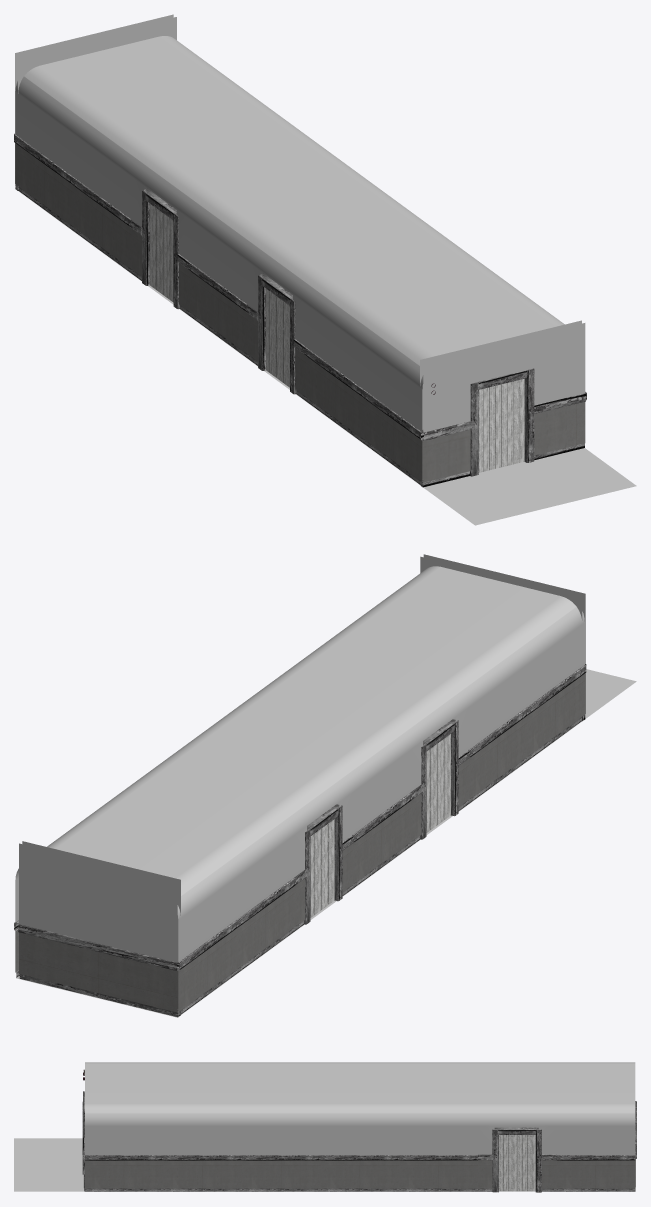
Rendered from Hallway_1.fbx.
3 views of the same model, one above another, from view 1: azimuth 30°, elevation 25°; view 2: azimuth 150°, elevation 25°; view 3: azimuth 270°, elevation 25° (orthographic). The views are drawn at different scales.
Parts seen in each view (by area): view 1: TopHalf (×9), Bottom (×8), Ceiling2, Ceiling6, Ceiling4, Ceiling5, Ceiling3, Floor5, Ceiling1, DoorBottom2 (×3), Ceiling, Wooden1 (×3) (+1 smaller); view 2: TopHalf (×9), Bottom (×8), Ceiling6, Ceiling3, Ceiling2, Ceiling4, Ceiling5, Ceiling, Ceiling1, DoorBottom2 (×2), Wooden (×3), Floor5; view 3: TopHalf (×7), Bottom (×7), Ceiling1, Ceiling4, Ceiling2, Ceiling3, Ceiling5, Ceiling6, Ceiling, Floor5, Wooden (×7), DoorBottom2 (+2 smaller).
Part boxes in pixels (x1=…): TopHalf (×9): x1=15, y1=14, x2=585, y2=432; Bottom (×8): x1=15, y1=143, x2=585, y2=487; Ceiling2: x1=79, y1=76, x2=287, y2=158; Ceiling6: x1=312, y1=246, x2=519, y2=329; Ceiling4: x1=196, y1=161, x2=402, y2=244; Ceiling5: x1=254, y1=204, x2=461, y2=286; Ceiling3: x1=137, y1=119, x2=344, y2=201; Floor5: x1=399, y1=448, x2=636, y2=525; Ceiling1: x1=24, y1=36, x2=228, y2=116; DoorBottom2 (×3): x1=149, y1=204, x2=524, y2=472; Ceiling: x1=370, y1=289, x2=564, y2=365; Wooden1 (×3): x1=142, y1=188, x2=478, y2=476; TopHalf (×9): x1=19, y1=554, x2=585, y2=962; Bottom (×8): x1=19, y1=674, x2=584, y2=1017; Ceiling6: x1=313, y1=607, x2=520, y2=689; Ceiling3: x1=140, y1=734, x2=346, y2=817; Ceiling2: x1=81, y1=777, x2=288, y2=859; Ceiling4: x1=197, y1=692, x2=404, y2=774; Ceiling5: x1=256, y1=649, x2=462, y2=731; Ceiling: x1=371, y1=566, x2=576, y2=646; Ceiling1: x1=47, y1=819, x2=230, y2=895; DoorBottom2 (×2): x1=310, y1=734, x2=450, y2=917; Wooden (×3): x1=18, y1=720, x2=458, y2=970; Floor5: x1=560, y1=669, x2=636, y2=737; TopHalf (×7): x1=85, y1=1113, x2=635, y2=1154; Bottom (×7): x1=85, y1=1160, x2=635, y2=1191; Ceiling1: x1=556, y1=1062, x2=635, y2=1113; Ceiling4: x1=320, y1=1062, x2=399, y2=1113; Ceiling2: x1=478, y1=1062, x2=556, y2=1113; Ceiling3: x1=399, y1=1062, x2=477, y2=1113; Ceiling5: x1=242, y1=1062, x2=320, y2=1113; Ceiling6: x1=163, y1=1062, x2=241, y2=1113; Ceiling: x1=85, y1=1062, x2=163, y2=1113; Floor5: x1=14, y1=1138, x2=84, y2=1191; Wooden (×7): x1=85, y1=1130, x2=635, y2=1192; DoorBottom2: x1=499, y1=1135, x2=535, y2=1191.
Size of the model in its own units: 47.55 by 38.37 by 229.
